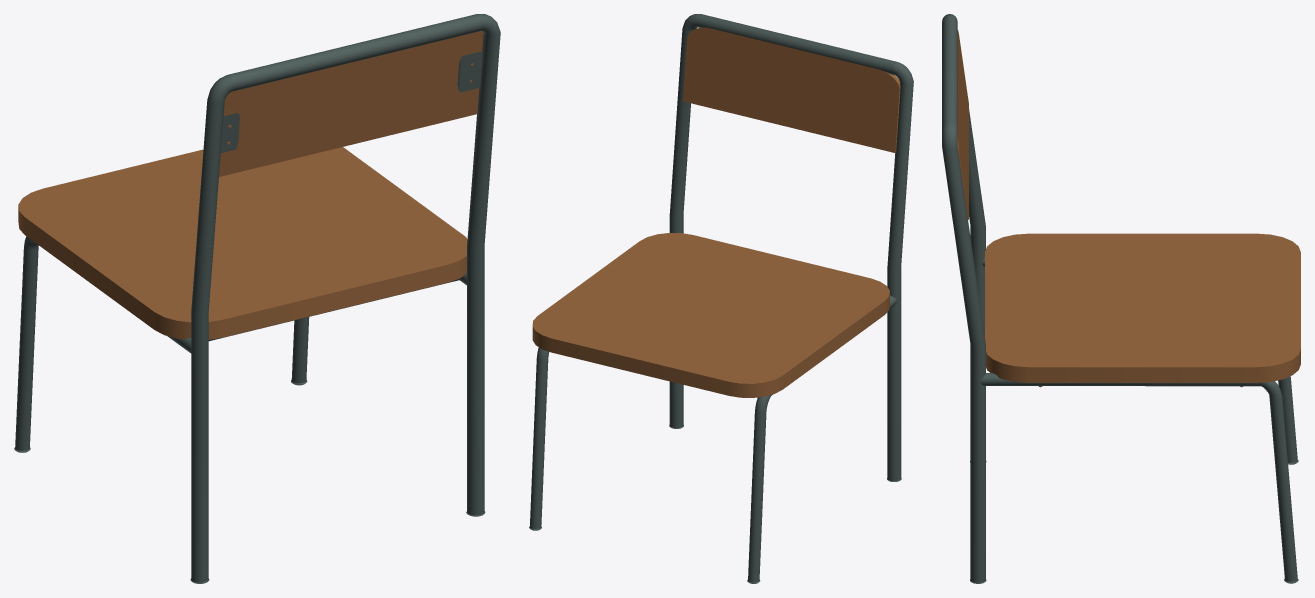
The model's file is SillaEscuela - School Chair.obj.
The picture shows the model from 3 angles, left to right: view 1: azimuth 30°, elevation 25°; view 2: azimuth 150°, elevation 25°; view 3: azimuth 270°, elevation 25°; orthographic projection. The views are drawn at different scales.
Visible parts, largest first — view 1: Silla_Cube.004; view 2: Silla_Cube.004; view 3: Silla_Cube.004.
Part boxes in pixels (x1,y1,x2,y2): Silla_Cube.004: (14, 14, 500, 583); Silla_Cube.004: (529, 14, 913, 583); Silla_Cube.004: (942, 14, 1300, 583).
Size of the model in its own units: 2 by 3.16 by 2.27.
